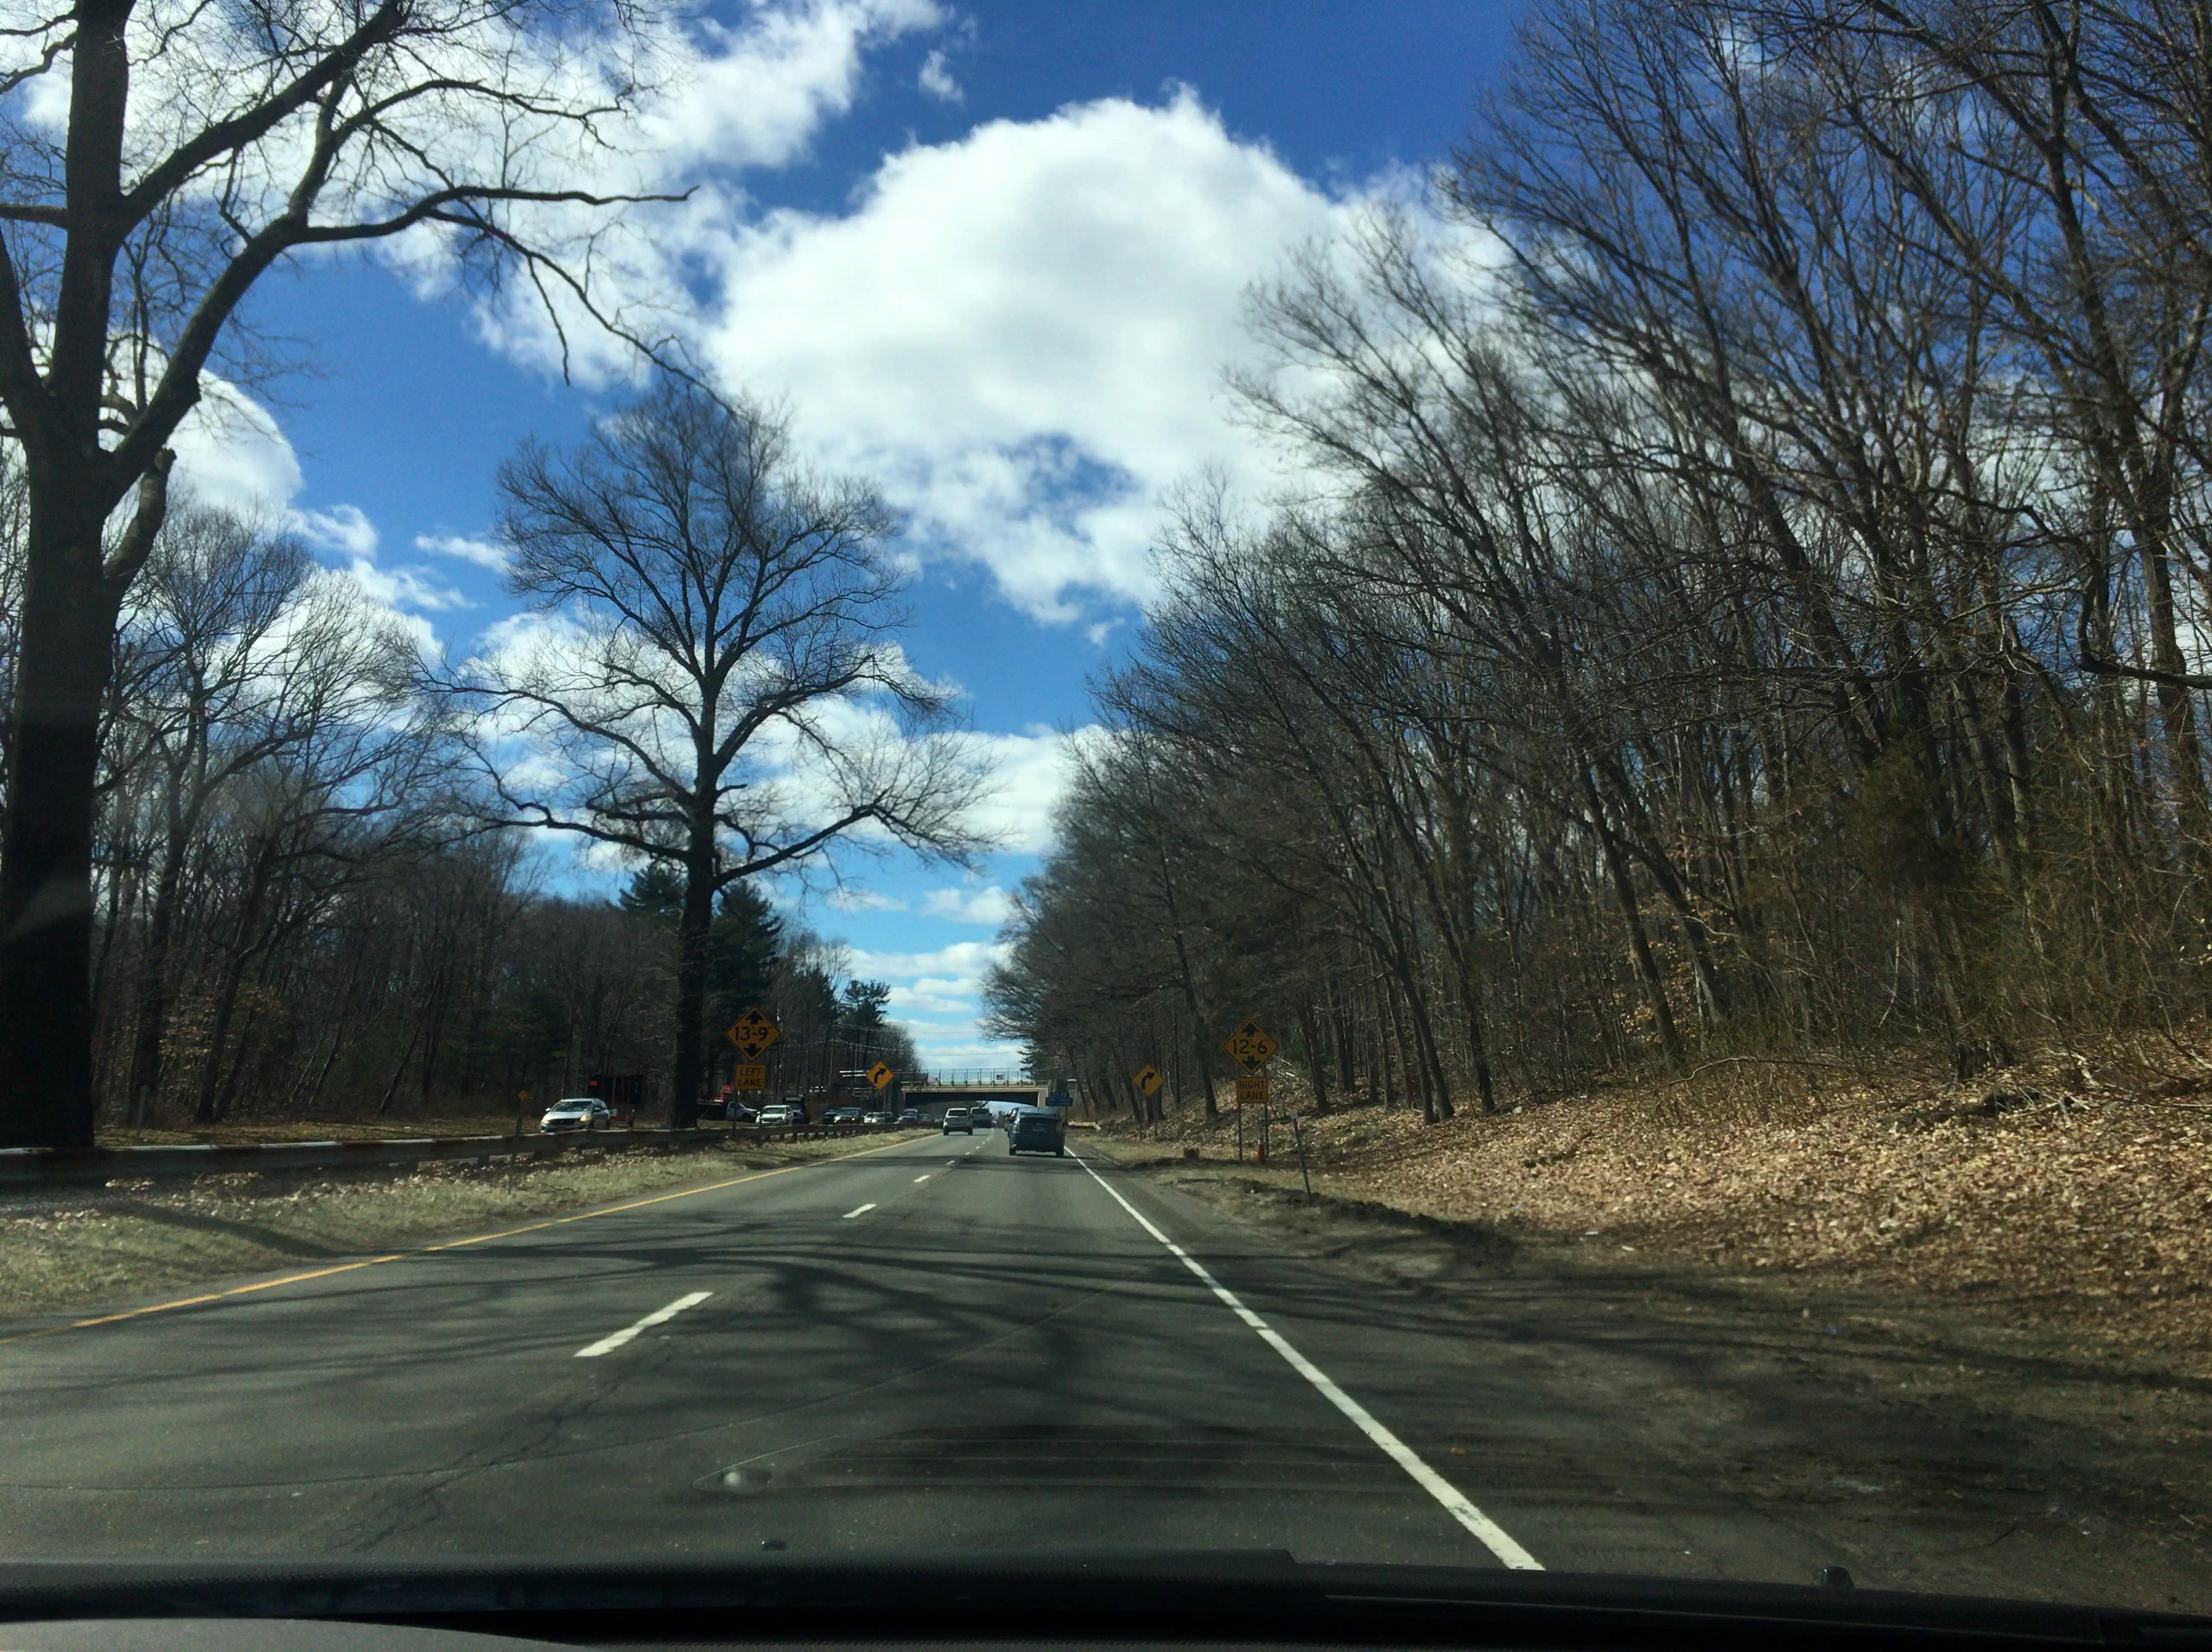low-clearance-sign: (723, 1006, 782, 1064), (1221, 1017, 1279, 1076)
